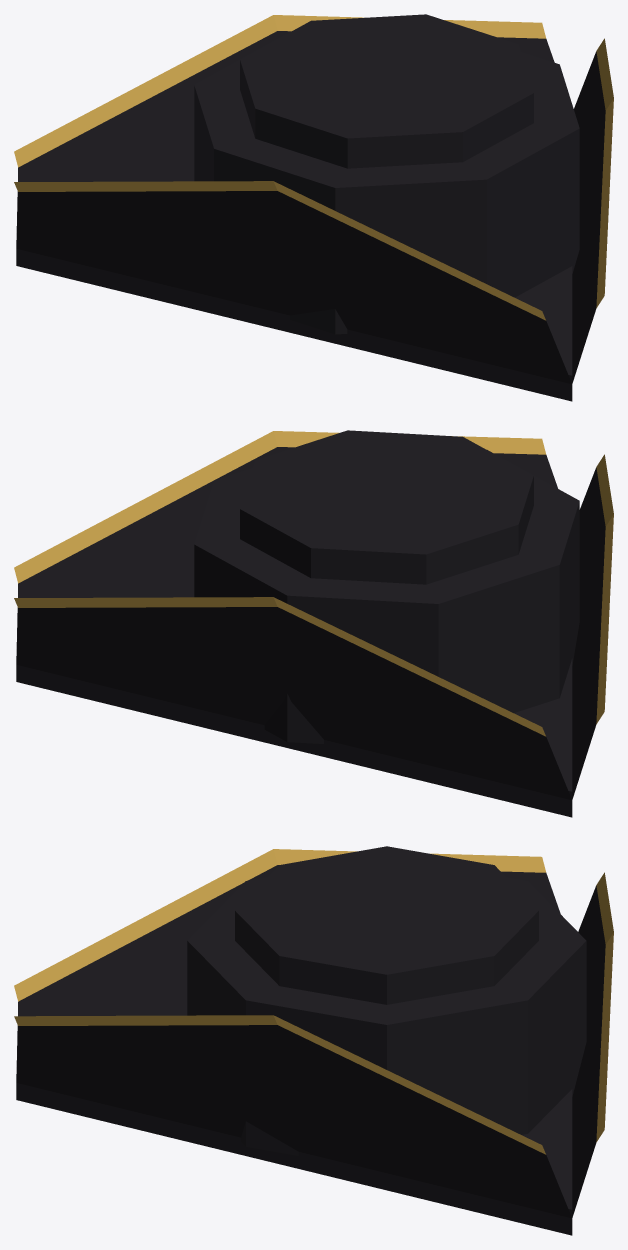
The model's file is tricorn.glb.
3 views of the same model, one above another, from view 1: azimuth 30°, elevation 25°; view 2: azimuth 150°, elevation 25°; view 3: azimuth 270°, elevation 25° (orthographic).
Parts seen in each view (by area): view 1: tricorn; view 2: tricorn; view 3: tricorn.
Part boxes in pixels (x1,y1,x2,y2): tricorn: [14, 14, 613, 401]; tricorn: [14, 430, 613, 817]; tricorn: [14, 846, 613, 1235].
Size of the model in its own units: 1.44 by 0.44 by 1.26.
Materials: 1 (1 with a texture image).
